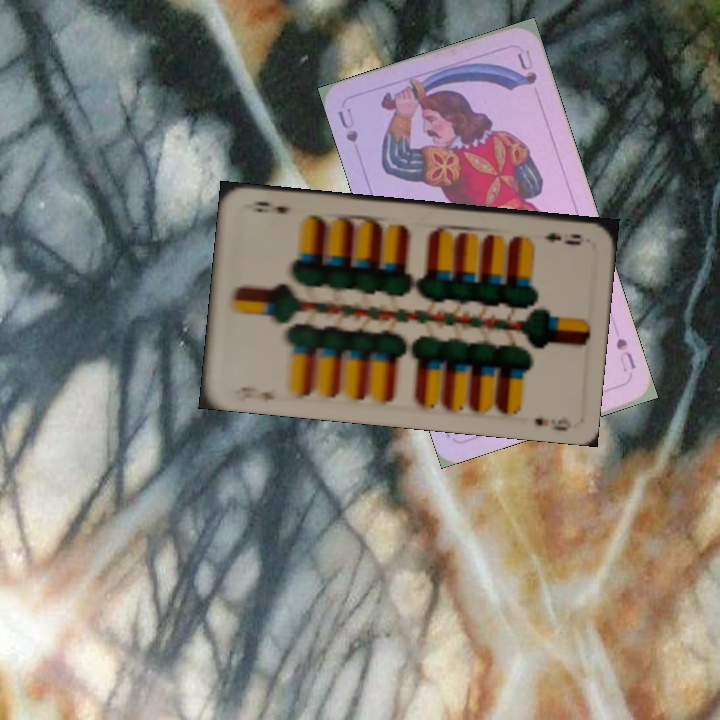E9: (230, 383, 278, 404), (539, 229, 584, 248)
SU: (333, 103, 361, 145), (612, 334, 638, 375)
